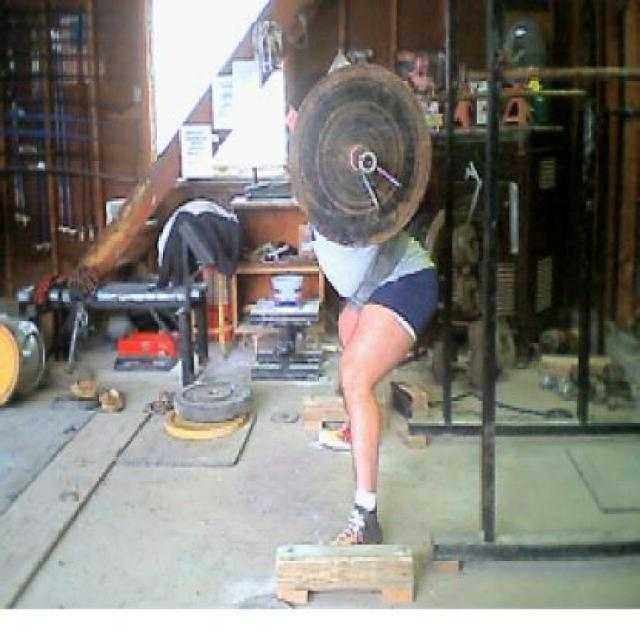Barbell: (354, 145, 380, 178)
